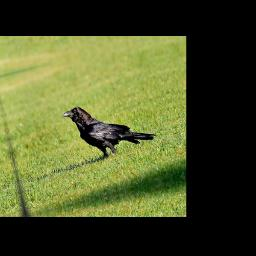Crow: (59, 87, 159, 169)
